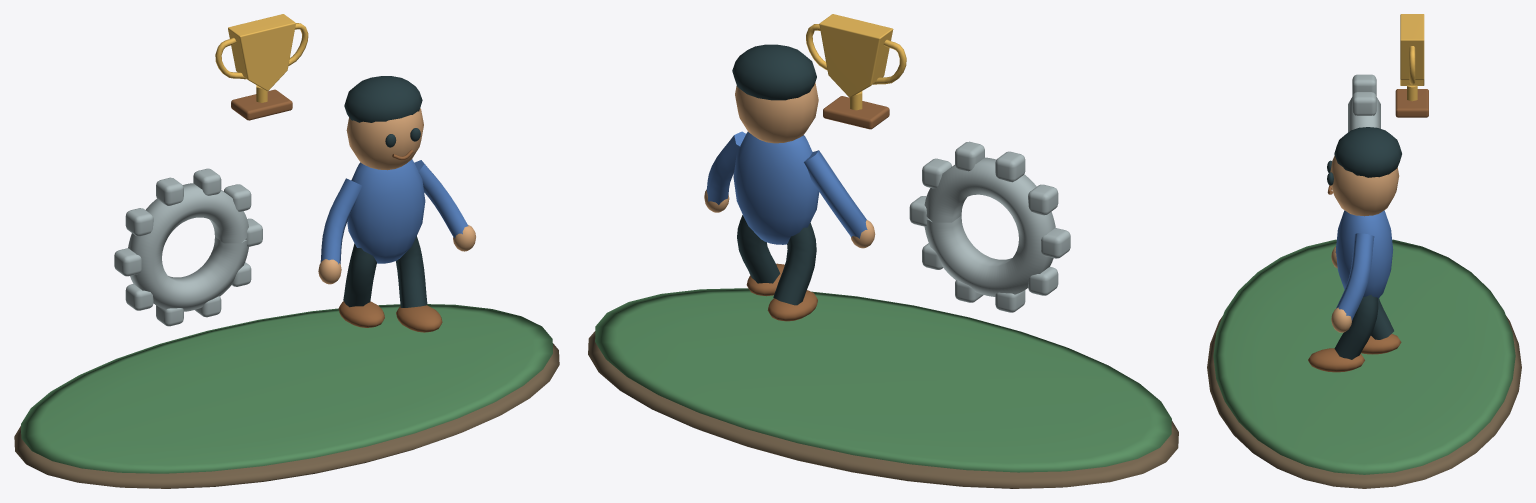
Rendered from complete-third-achieved-work-man.glb.
3 views of the same model, side by side, from view 1: azimuth 30°, elevation 25°; view 2: azimuth 150°, elevation 25°; view 3: azimuth 270°, elevation 25° (orthographic). The views are drawn at different scales.
Visible parts, largest first — view 1: complete-third-achieved-work-man_surface_01, complete-third-achieved-work-man_surface_02, complete-third-achieved-work-man_surface_00, complete-third-achieved-work-man_surface_06, complete-third-achieved-work-man_surface_04, complete-third-achieved-work-man_surface_07, complete-third-achieved-work-man_surface_03, complete-third-achieved-work-man_surface_05; view 2: complete-third-achieved-work-man_surface_01, complete-third-achieved-work-man_surface_02, complete-third-achieved-work-man_surface_00, complete-third-achieved-work-man_surface_06, complete-third-achieved-work-man_surface_04, complete-third-achieved-work-man_surface_07, complete-third-achieved-work-man_surface_03, complete-third-achieved-work-man_surface_05; view 3: complete-third-achieved-work-man_surface_01, complete-third-achieved-work-man_surface_00, complete-third-achieved-work-man_surface_04, complete-third-achieved-work-man_surface_06, complete-third-achieved-work-man_surface_03, complete-third-achieved-work-man_surface_05, complete-third-achieved-work-man_surface_07, complete-third-achieved-work-man_surface_02.
Boxes of the visible parts, x1,y1,x2,y2 form: complete-third-achieved-work-man_surface_01: [21, 304, 552, 473]; complete-third-achieved-work-man_surface_02: [114, 168, 262, 326]; complete-third-achieved-work-man_surface_00: [14, 343, 559, 488]; complete-third-achieved-work-man_surface_06: [320, 159, 468, 264]; complete-third-achieved-work-man_surface_04: [343, 76, 427, 307]; complete-third-achieved-work-man_surface_07: [215, 14, 308, 102]; complete-third-achieved-work-man_surface_03: [318, 108, 475, 284]; complete-third-achieved-work-man_surface_05: [231, 89, 442, 332]; complete-third-achieved-work-man_surface_01: [595, 288, 1171, 472]; complete-third-achieved-work-man_surface_02: [909, 141, 1070, 312]; complete-third-achieved-work-man_surface_00: [588, 331, 1178, 488]; complete-third-achieved-work-man_surface_06: [706, 131, 867, 244]; complete-third-achieved-work-man_surface_04: [732, 44, 816, 305]; complete-third-achieved-work-man_surface_07: [806, 14, 906, 110]; complete-third-achieved-work-man_surface_03: [704, 82, 875, 248]; complete-third-achieved-work-man_surface_05: [746, 96, 889, 321]; complete-third-achieved-work-man_surface_01: [1213, 239, 1515, 474]; complete-third-achieved-work-man_surface_00: [1207, 316, 1521, 488]; complete-third-achieved-work-man_surface_04: [1327, 127, 1401, 359]; complete-third-achieved-work-man_surface_06: [1335, 210, 1393, 320]; complete-third-achieved-work-man_surface_03: [1330, 155, 1399, 332]; complete-third-achieved-work-man_surface_05: [1308, 89, 1428, 372]; complete-third-achieved-work-man_surface_07: [1400, 14, 1424, 101]; complete-third-achieved-work-man_surface_02: [1348, 74, 1380, 132].
Size of the model in its own units: 4.56 by 3.11 by 2.5.
